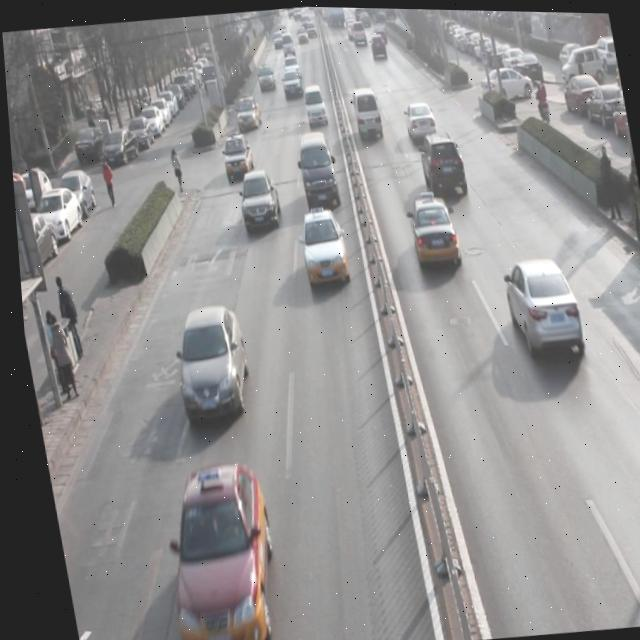car: (149, 466, 278, 640), (163, 301, 252, 425), (495, 252, 586, 362), (400, 189, 461, 277), (292, 206, 349, 288), (414, 129, 469, 201), (231, 167, 281, 232), (217, 132, 254, 181), (401, 96, 436, 138), (231, 90, 264, 133), (279, 67, 304, 100), (254, 61, 277, 94)
truck: (290, 129, 339, 209), (348, 84, 383, 143), (299, 81, 328, 129)
